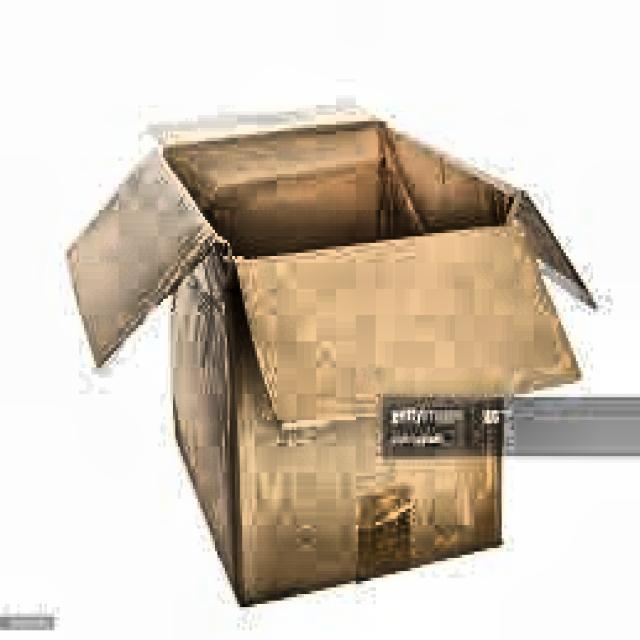cardboard: (64, 102, 596, 607)
